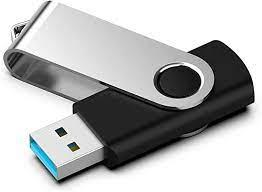Flash-drive: (1, 0, 261, 184)
